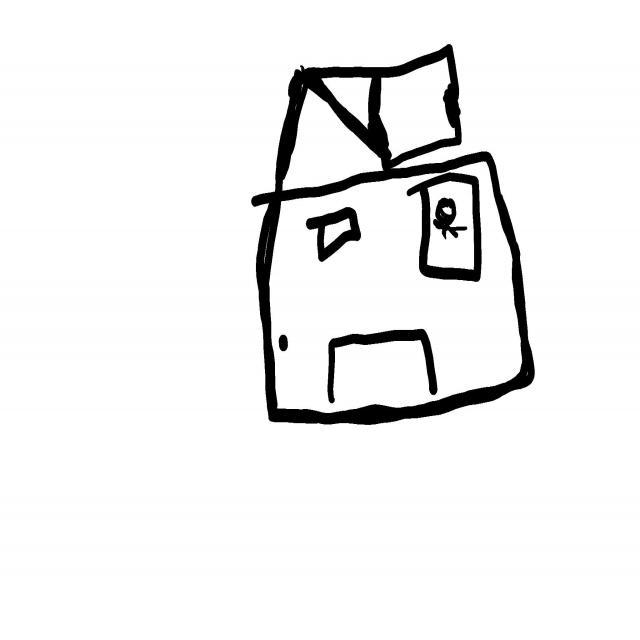chimney: (310, 50, 458, 162)
door: (327, 332, 439, 421)
house: (253, 45, 535, 425)
roof: (270, 67, 396, 198)
window: (408, 173, 483, 281), (307, 207, 362, 262)
